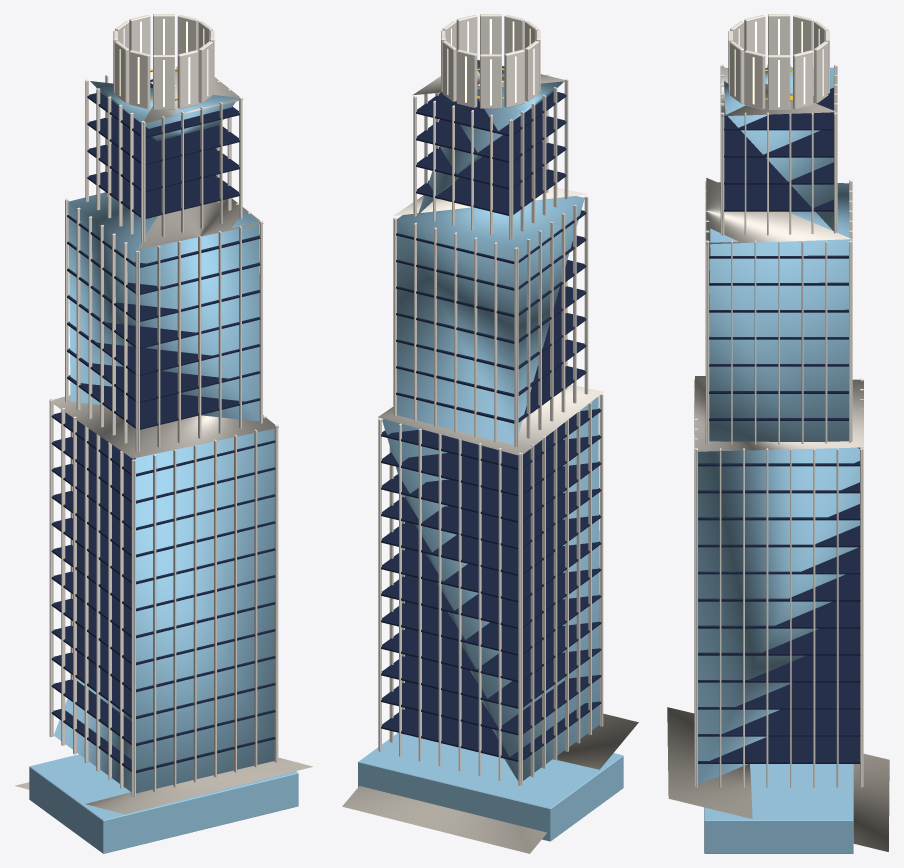
File: glass_tower.glb
The picture shows the model from 3 angles, left to right: view 1: azimuth 30°, elevation 25°; view 2: azimuth 150°, elevation 25°; view 3: azimuth 270°, elevation 25°; orthographic projection.
Visible parts, largest first — view 1: glass_tower; view 2: glass_tower; view 3: glass_tower.
Part boxes in pixels (x1=…): glass_tower: x1=14, y1=14, x2=312, y2=853; glass_tower: x1=342, y1=14, x2=638, y2=853; glass_tower: x1=667, y1=14, x2=889, y2=853.
Size of the model in its own units: 30.4 by 114 by 29.8.
Materials: 1 (1 with a texture image).
